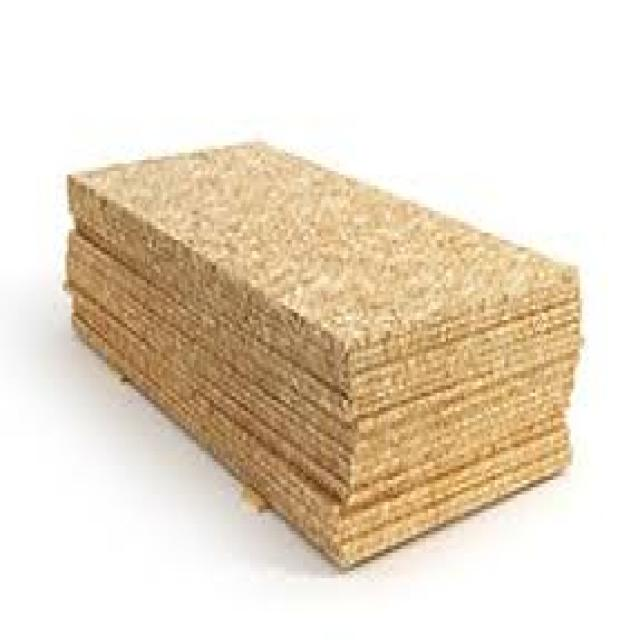Woods: (65, 142, 582, 575)
